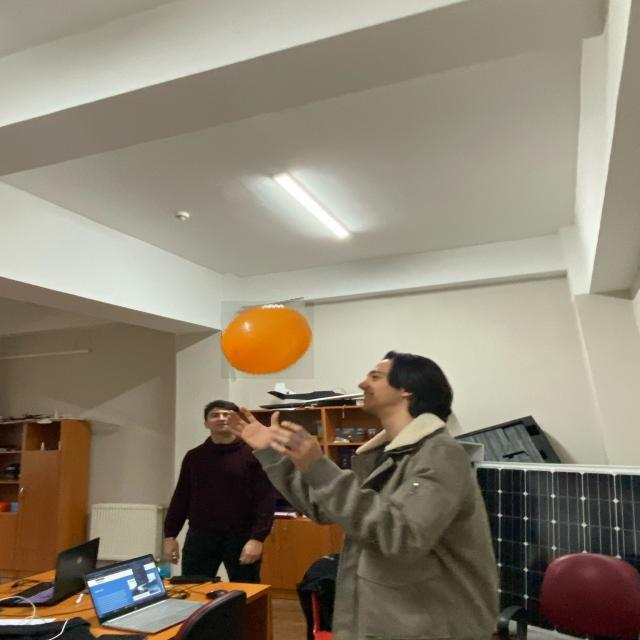balloon: (221, 301, 314, 379)
